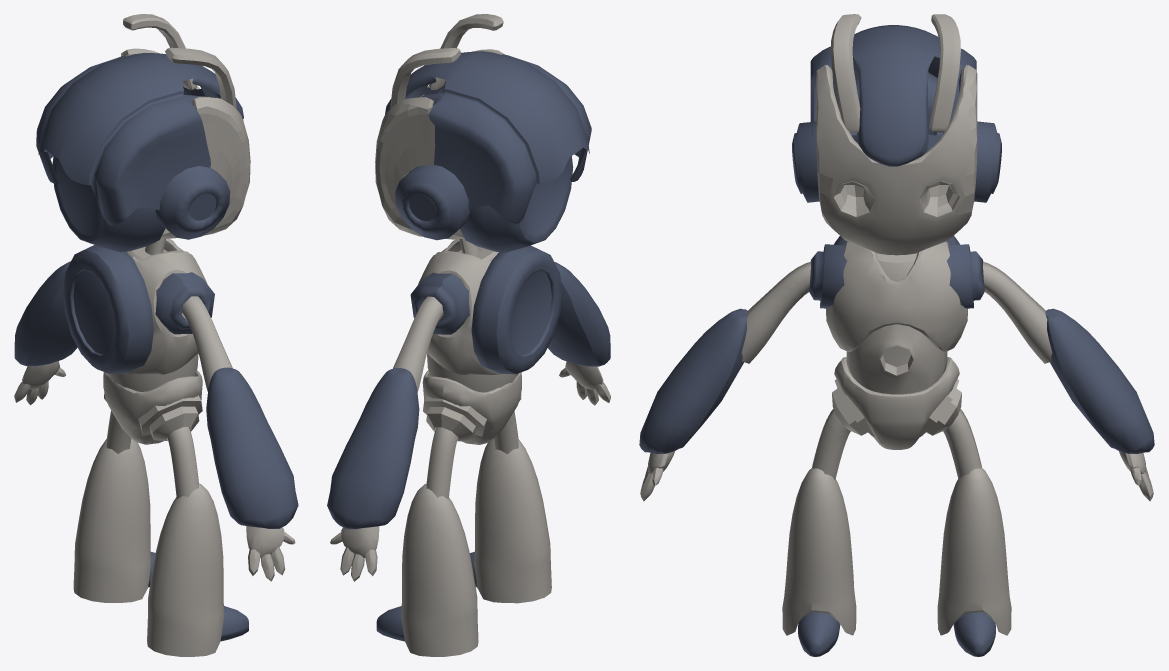
File: ROBOTCITO_V5_LOW.fbx
3 renders of one model, left to right at view 1: azimuth 30°, elevation 25°; view 2: azimuth 150°, elevation 25°; view 3: azimuth 270°, elevation 25°, orthographic. The views are drawn at different scales.
Parts seen in each view (by area): view 1: piernas_soporte_low, casco_low, brazos_caparazon_low, propulsor_espalda_low, cara_low, propulsor_cabeza_low, orejas_low, pecho_low, cadera_low, manos_low, antenas_low, brazos_rueda_low (+6 smaller); view 2: piernas_soporte_low, casco_low, brazos_caparazon_low, propulsor_espalda_low, cara_low, propulsor_cabeza_low, orejas_low, pecho_low, cadera_low, manos_low, antenas_low, brazos_rueda_low (+6 smaller); view 3: piernas_soporte_low, cara_low, brazos_caparazon_low, casco_low, pecho_low, brazos_low, tronco_low, antenas_low, cadera_low, brazos_rueda_low, orejas_low, pies_low (+4 smaller).
Part boxes in pixels (bbox=[...]): piernas_soporte_low: bbox=[73, 438, 224, 656]; casco_low: bbox=[36, 53, 243, 225]; brazos_caparazon_low: bbox=[14, 261, 298, 528]; propulsor_espalda_low: bbox=[63, 245, 153, 373]; cara_low: bbox=[121, 48, 250, 238]; propulsor_cabeza_low: bbox=[52, 155, 165, 252]; orejas_low: bbox=[155, 166, 230, 239]; pecho_low: bbox=[124, 238, 207, 374]; cadera_low: bbox=[103, 370, 202, 444]; manos_low: bbox=[14, 361, 295, 581]; antenas_low: bbox=[123, 14, 236, 108]; brazos_rueda_low: bbox=[155, 272, 214, 334]; piernas_soporte_low: bbox=[401, 439, 551, 656]; casco_low: bbox=[385, 51, 591, 223]; brazos_caparazon_low: bbox=[327, 262, 610, 529]; propulsor_espalda_low: bbox=[471, 245, 562, 374]; cara_low: bbox=[375, 49, 503, 239]; propulsor_cabeza_low: bbox=[460, 156, 573, 252]; orejas_low: bbox=[395, 165, 469, 240]; pecho_low: bbox=[418, 239, 500, 374]; cadera_low: bbox=[422, 370, 521, 444]; manos_low: bbox=[330, 361, 610, 581]; antenas_low: bbox=[390, 14, 503, 108]; brazos_rueda_low: bbox=[410, 272, 469, 334]; piernas_soporte_low: bbox=[782, 467, 1011, 635]; cara_low: bbox=[816, 65, 977, 255]; brazos_caparazon_low: bbox=[639, 308, 1154, 453]; casco_low: bbox=[810, 25, 976, 166]; pecho_low: bbox=[826, 241, 967, 351]; brazos_low: bbox=[741, 262, 1052, 363]; tronco_low: bbox=[846, 324, 947, 394]; antenas_low: bbox=[830, 14, 960, 132]; cadera_low: bbox=[834, 357, 959, 449]; brazos_rueda_low: bbox=[809, 244, 984, 308]; orejas_low: bbox=[792, 121, 1001, 202]; pies_low: bbox=[798, 612, 995, 656].
Bounding box in the file's own units: 10.25 × 30.56 × 23.19.
